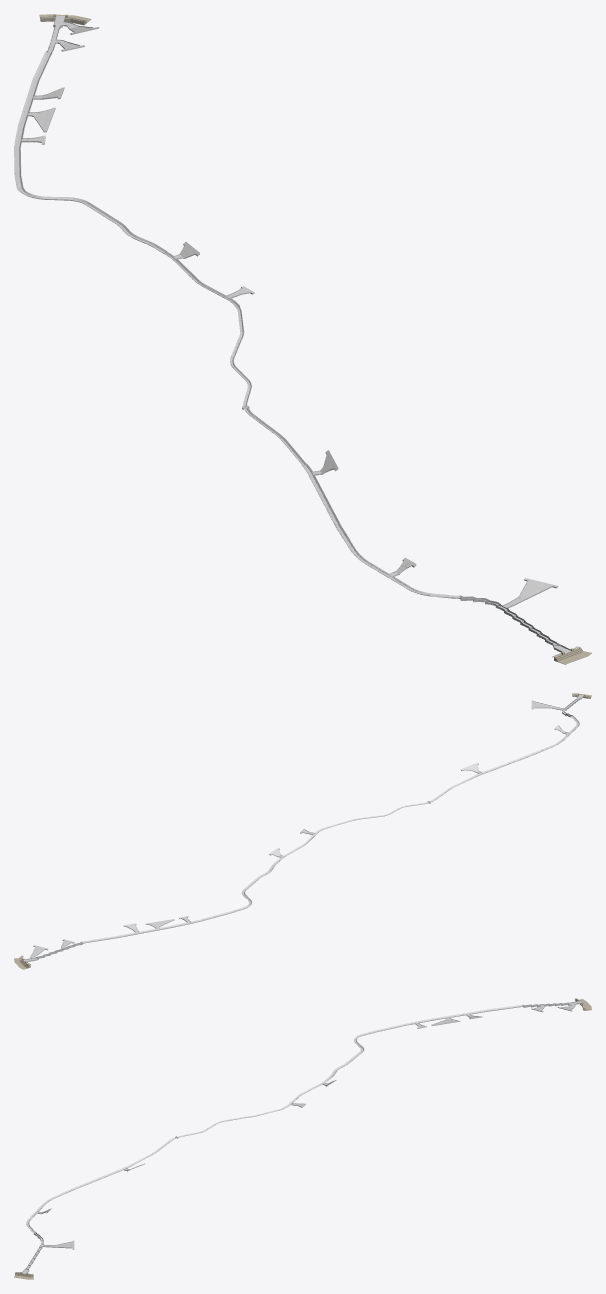
The model's file is 500125-CSSP001-740-XX-DR-ST-004120@004145.glb.
3 renders of one model, top to bottom at view 1: azimuth 30°, elevation 25°; view 2: azimuth 150°, elevation 25°; view 3: azimuth 330°, elevation 25°, orthographic. The views are drawn at different scales.
Visible parts, largest first — view 1: 500125-CSSP001-740-XX-DR-ST-004120@004145#OTR002; view 2: 500125-CSSP001-740-XX-DR-ST-004120@004145#OTR002; view 3: 500125-CSSP001-740-XX-DR-ST-004120@004145#OTR002.
Part boxes in pixels (left/top/right/bottom): 500125-CSSP001-740-XX-DR-ST-004120@004145#OTR002: left=14, top=51, right=558, bottom=610; 500125-CSSP001-740-XX-DR-ST-004120@004145#OTR002: left=81, top=700, right=579, bottom=943; 500125-CSSP001-740-XX-DR-ST-004120@004145#OTR002: left=26, top=1004, right=524, bottom=1249.
Bounding box in the file's own units: 345 × 33.18 × 1262.
